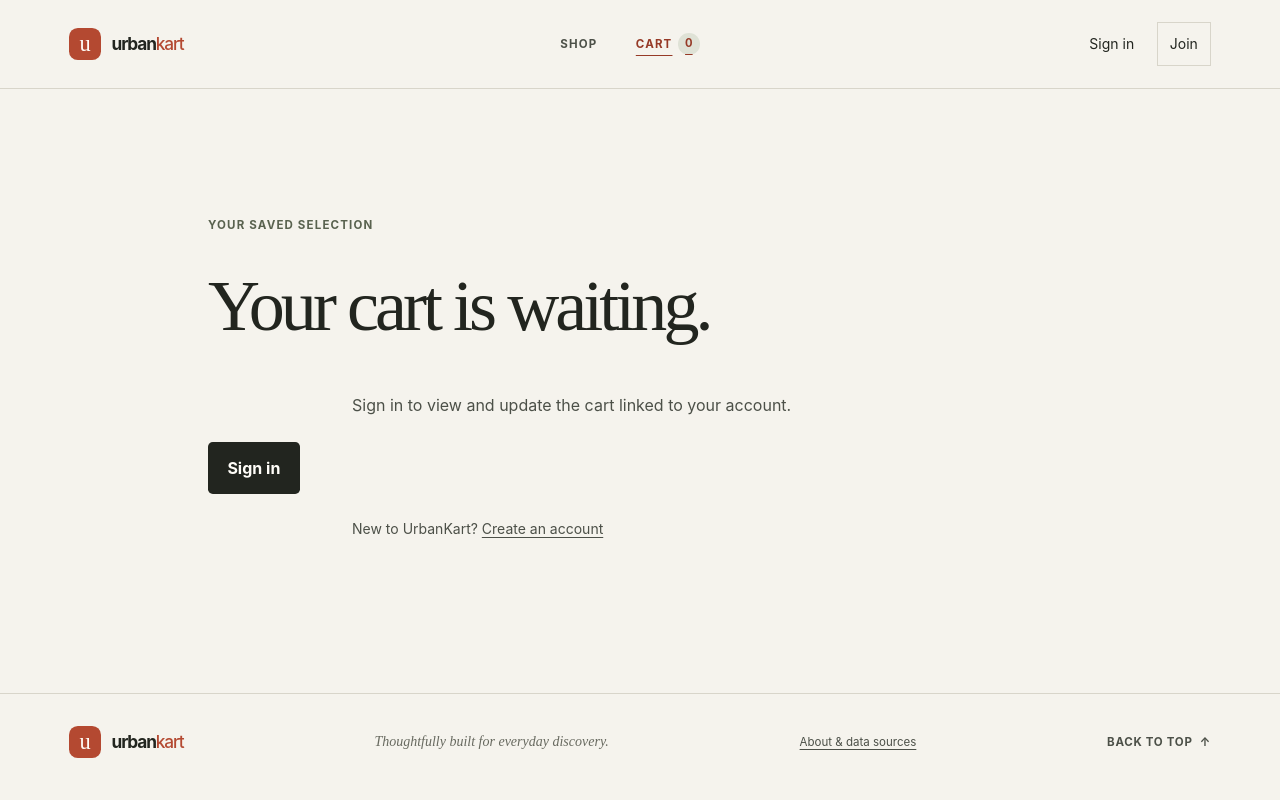
Scenario: Stage C catalogue and detail › blocks cart edits after an uncertain update until a refresh succeeds
Click the link "Sign in" below "Your cart is waiting." at [254, 468], box left=208, top=442, right=300, bottom=494
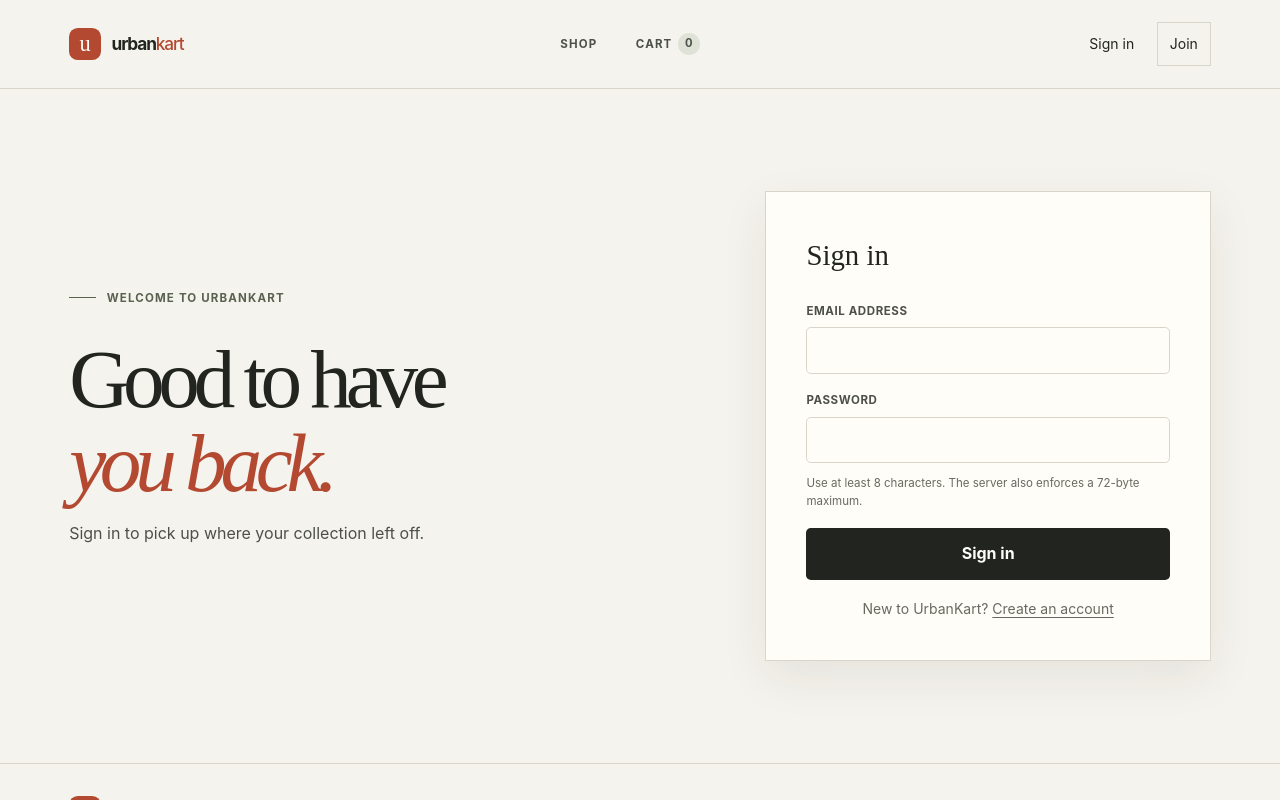
Type "shopper@example.test" into the field labelled "Email address" at [988, 350], box left=806, top=327, right=1170, bottom=374
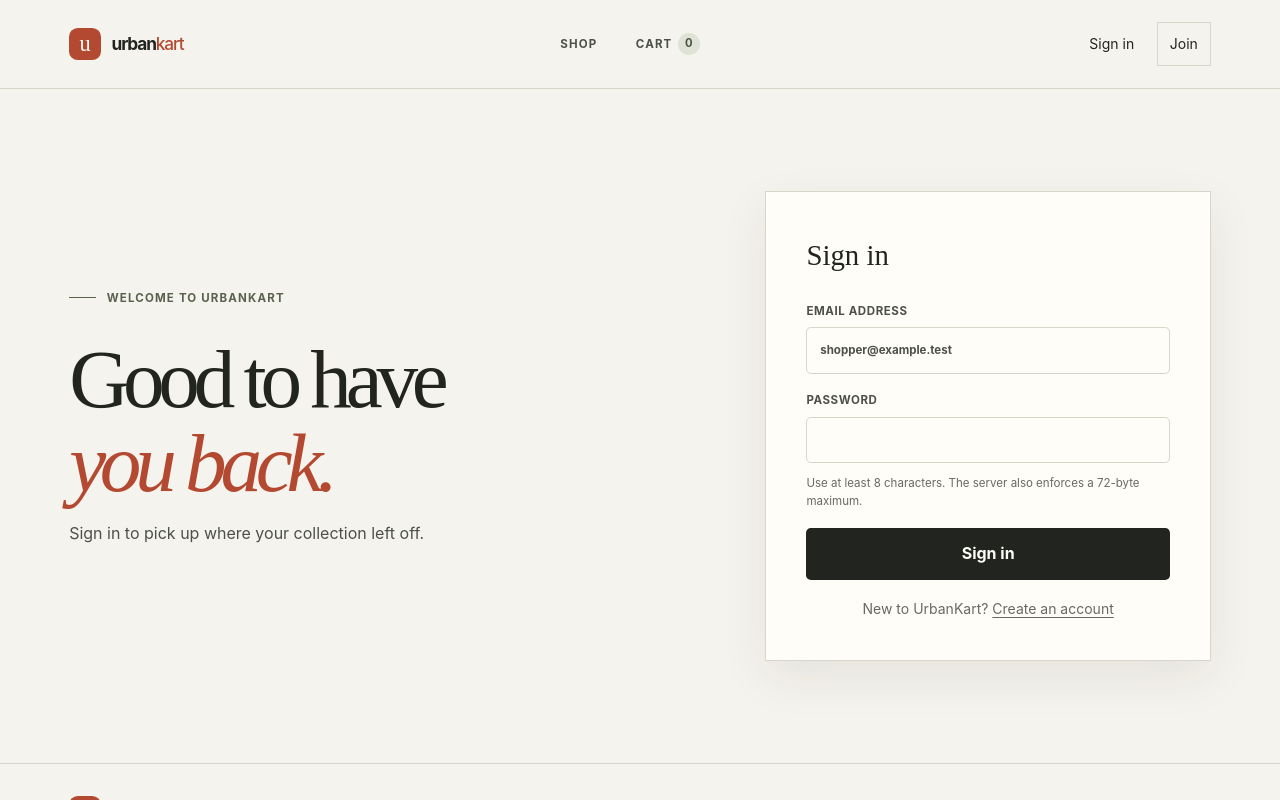
Type "correct-horse" into the password field labelled "Password" at [988, 440], box left=806, top=417, right=1170, bottom=463
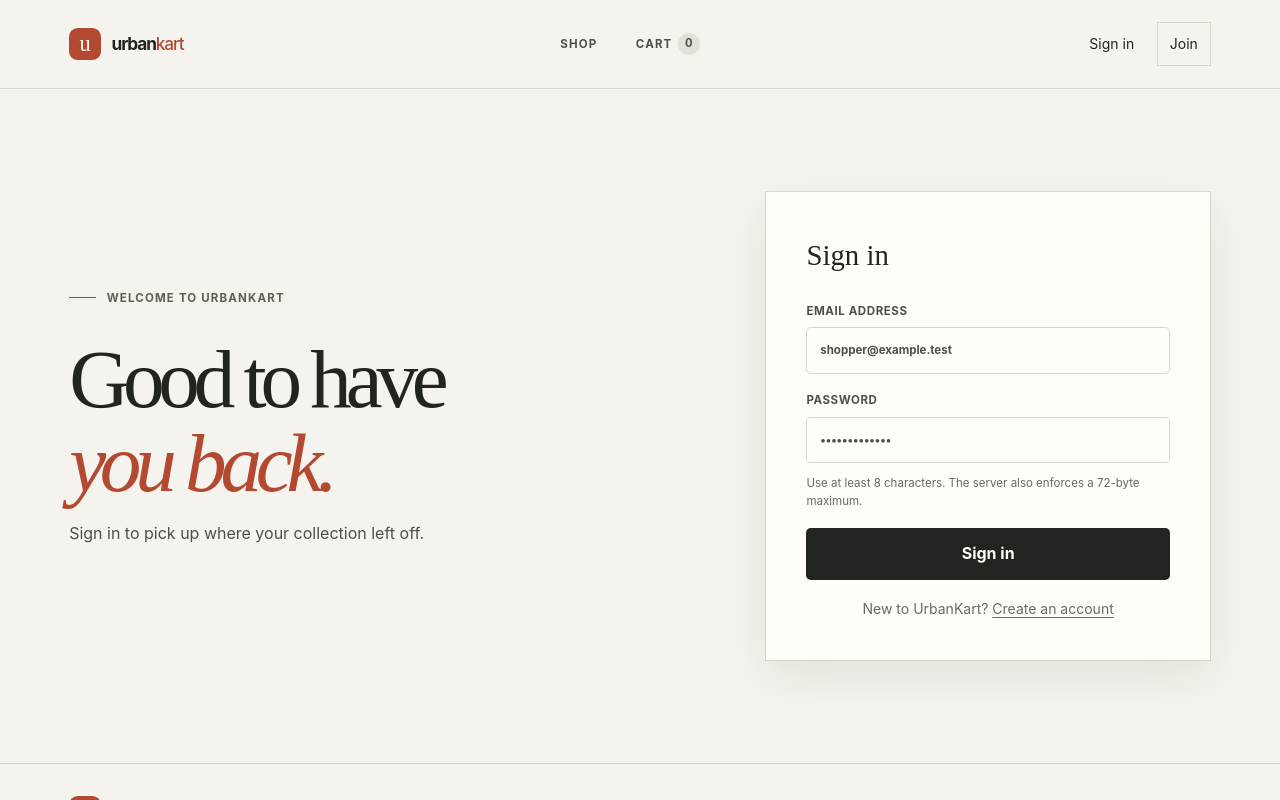
Click the button "Sign in" at [988, 554], box left=806, top=528, right=1170, bottom=580
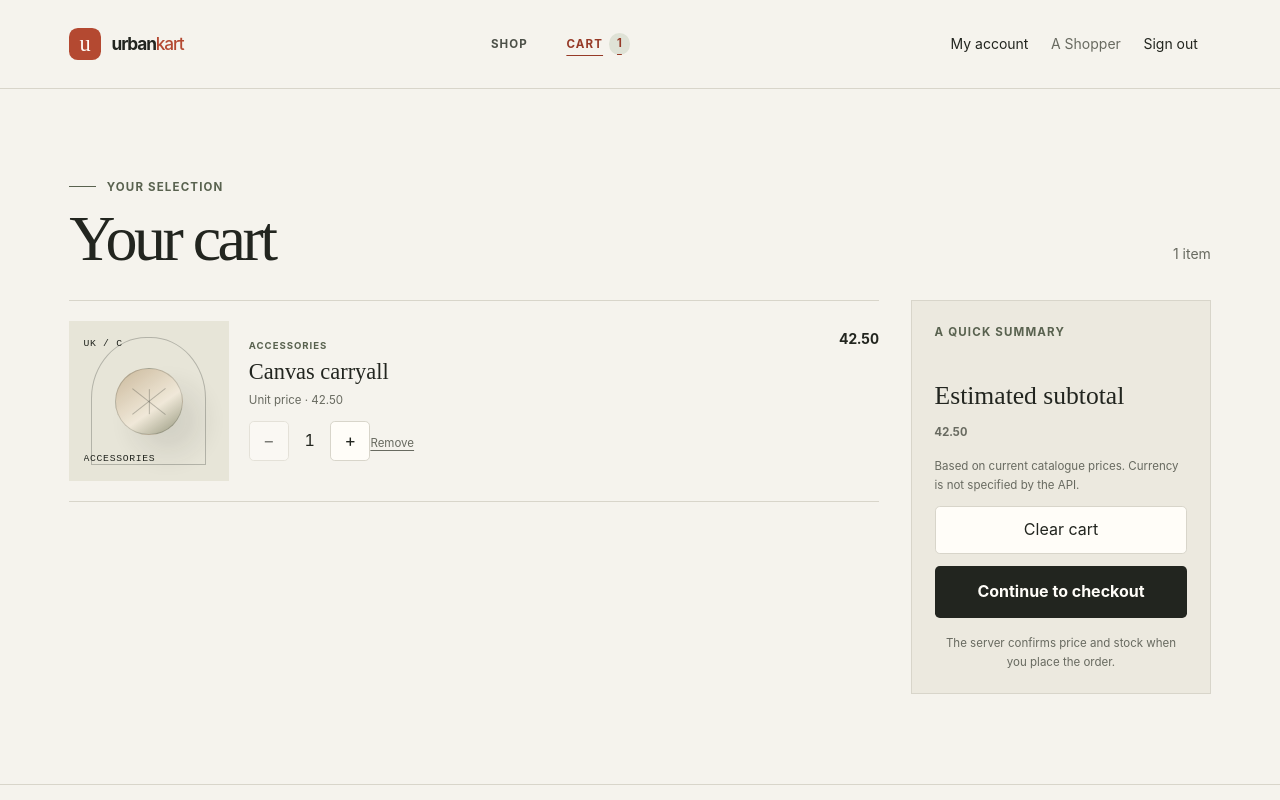
Check: the heading "Estimated subtotal" is shown, box left=934, top=381, right=1124, bottom=410
Click the button named "Increase Canvas carryall quantity" at [350, 441], box left=330, top=421, right=370, bottom=461
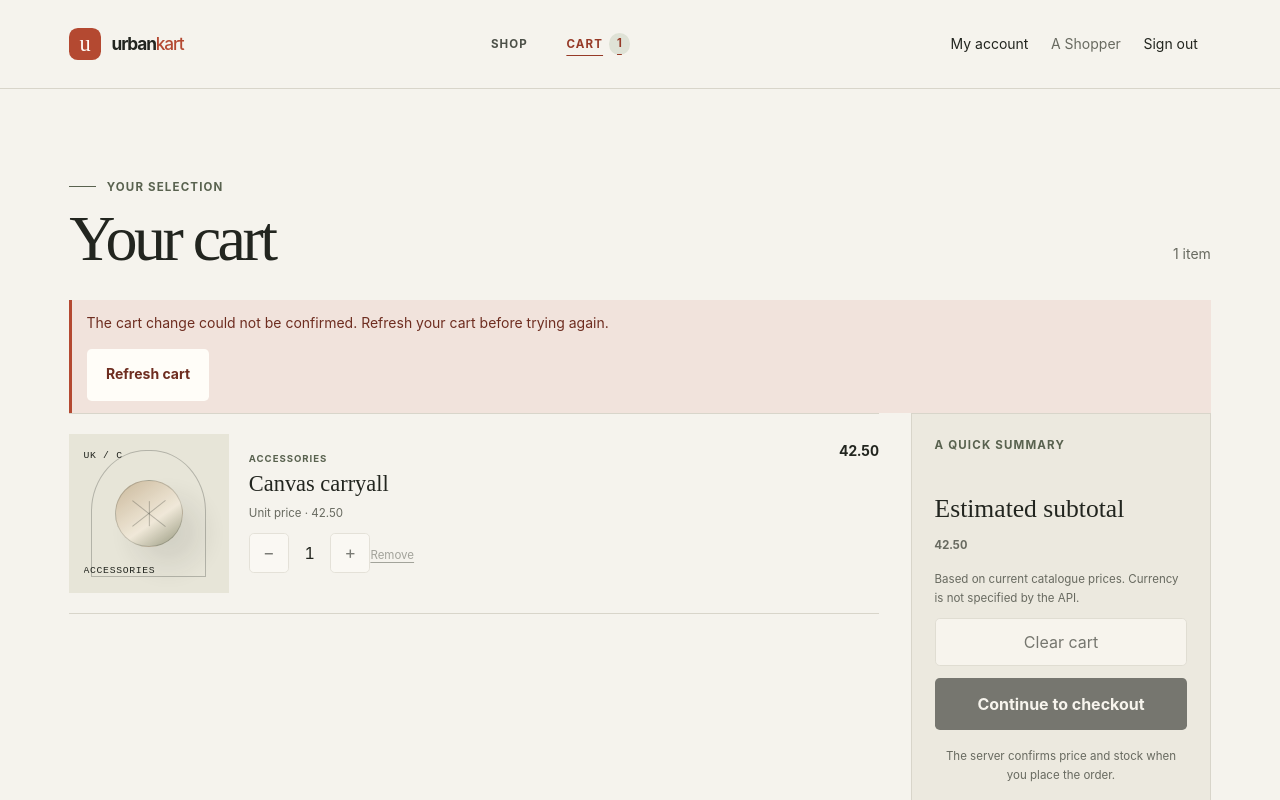
Check: the text "cart change could not be confirmed" is shown, box left=86, top=314, right=609, bottom=331
Check: the button named "Increase Canvas carryall quantity" is disabled, box left=330, top=533, right=370, bottom=573
Check: the button "Remove" is disabled, box left=370, top=536, right=414, bottom=576
Click the button "Refresh cart" at [148, 375], box left=86, top=349, right=209, bottom=401
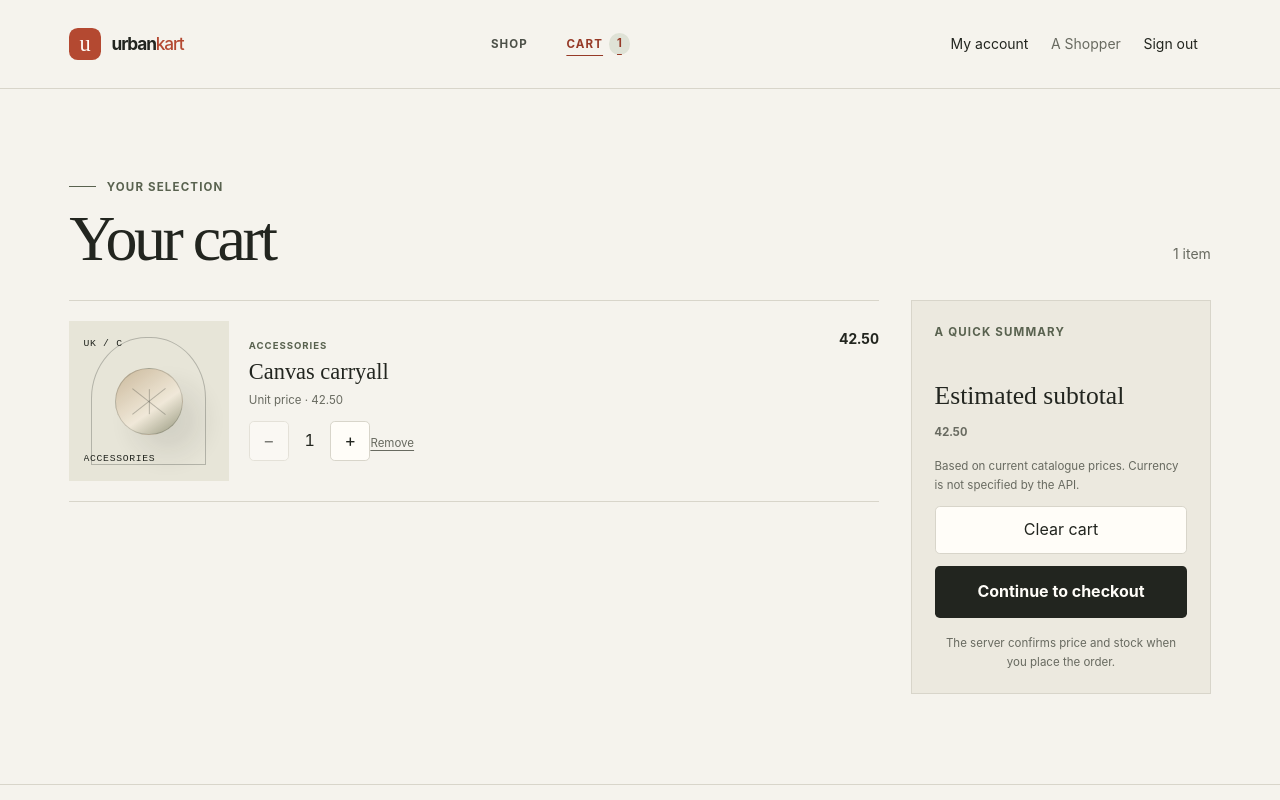
Check: the button named "Increase Canvas carryall quantity" is enabled, box left=330, top=421, right=370, bottom=461
